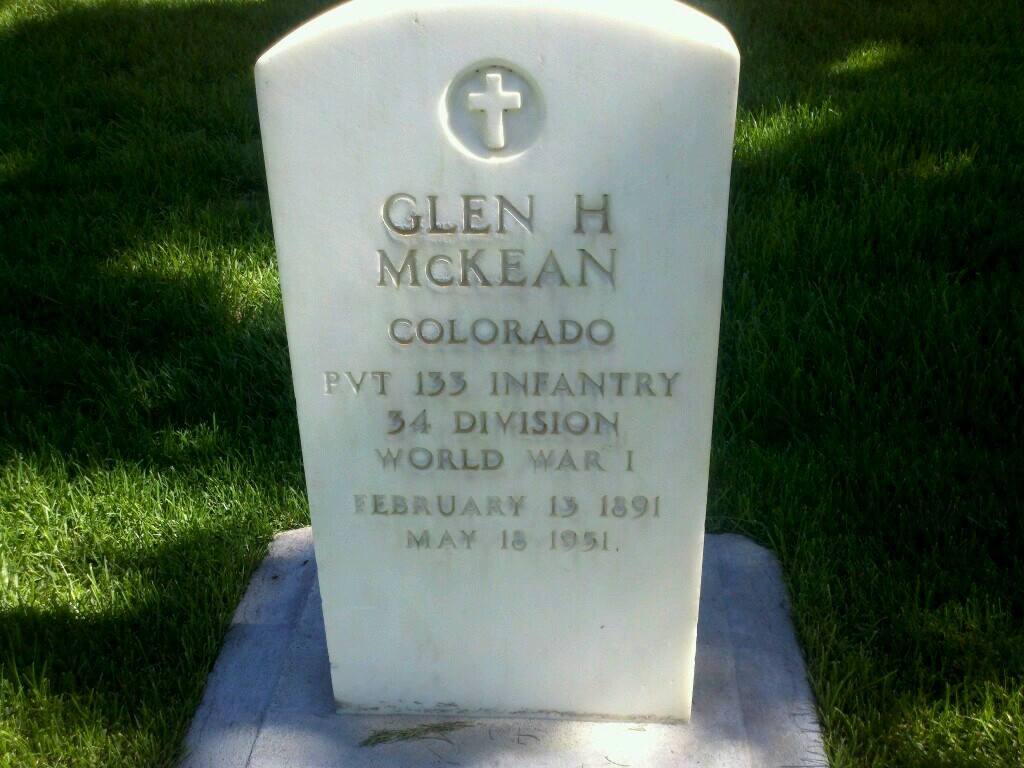military: (250, 0, 743, 747)
